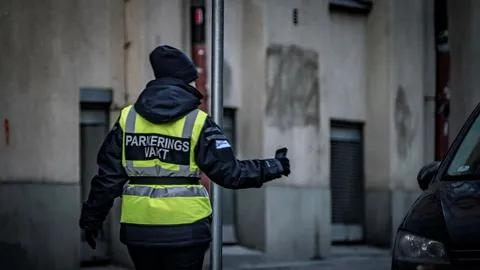parking-attendant: (79, 45, 289, 269)
